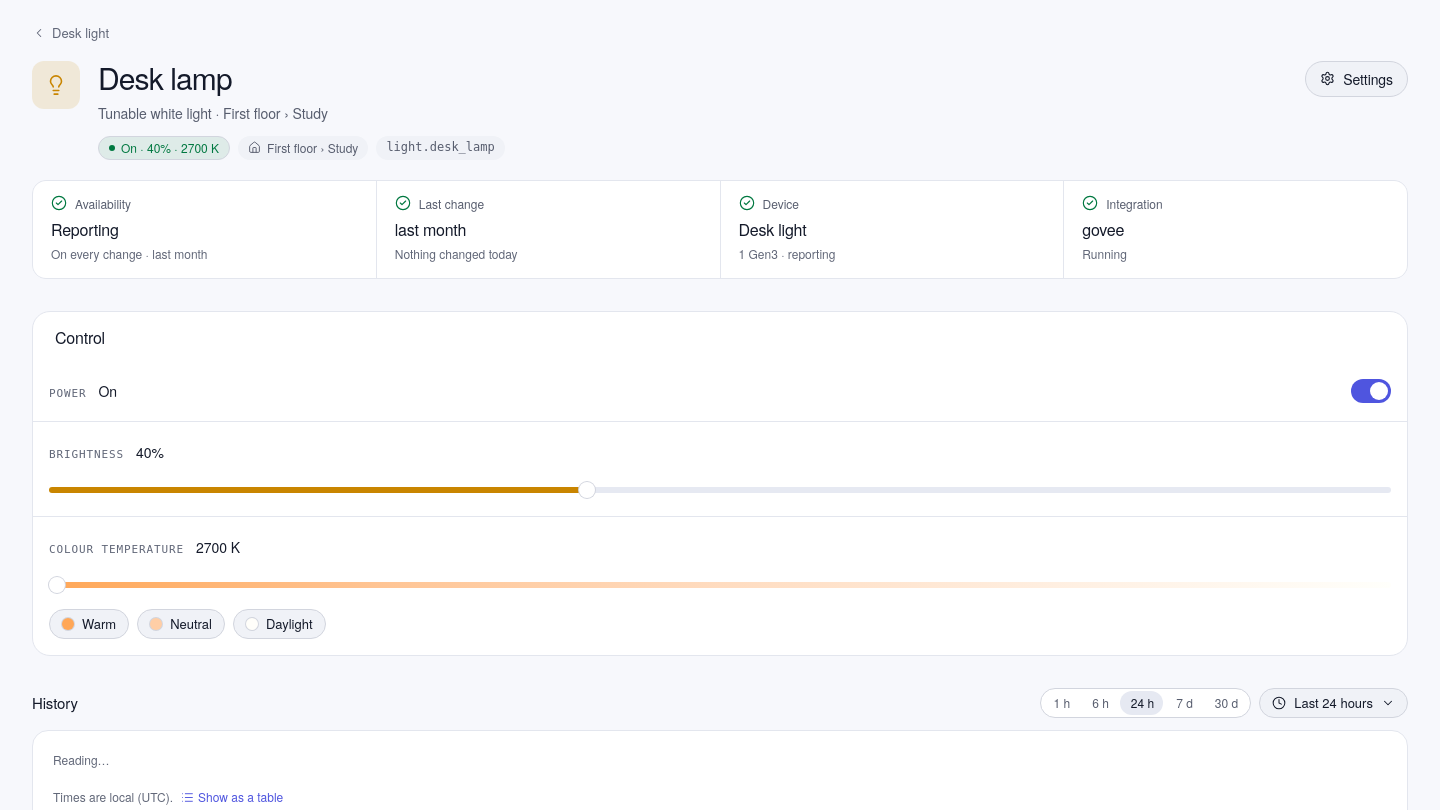
Test: EntityPage › opens its settings in a dialog from the button in the header, and has no views to switch
The image size is (1440, 810).
What coordinates should you click on to do the following:
click the button with aria-label "Configure Desk lamp"
I would click on:
 (1357, 79)
Its box is [1305,61,1408,97].
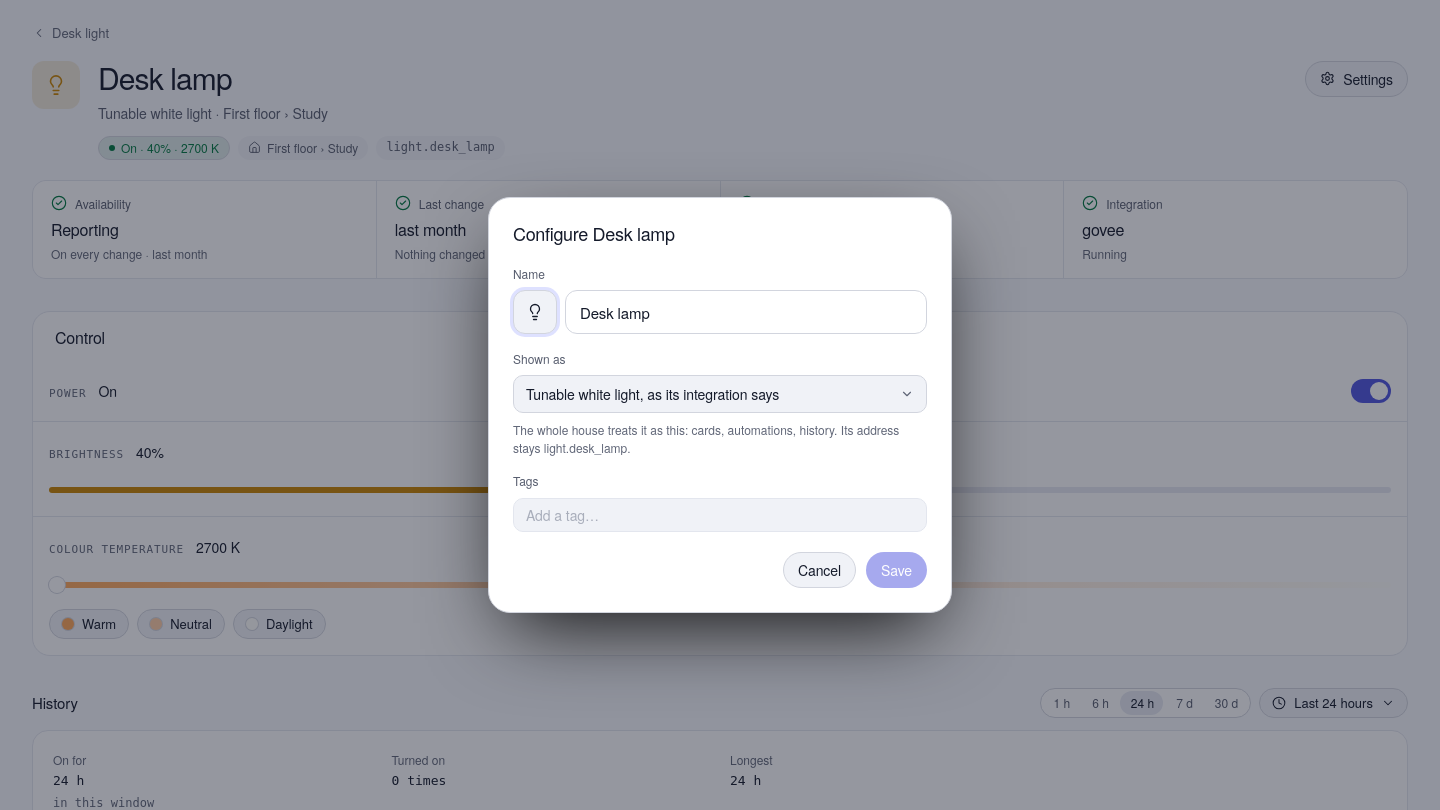
Expected: the dialog shows "Configure Desk lamp", [513,220,675,246]
Expected: the field labelled "Name" holds "Desk lamp", [565,290,927,334]
